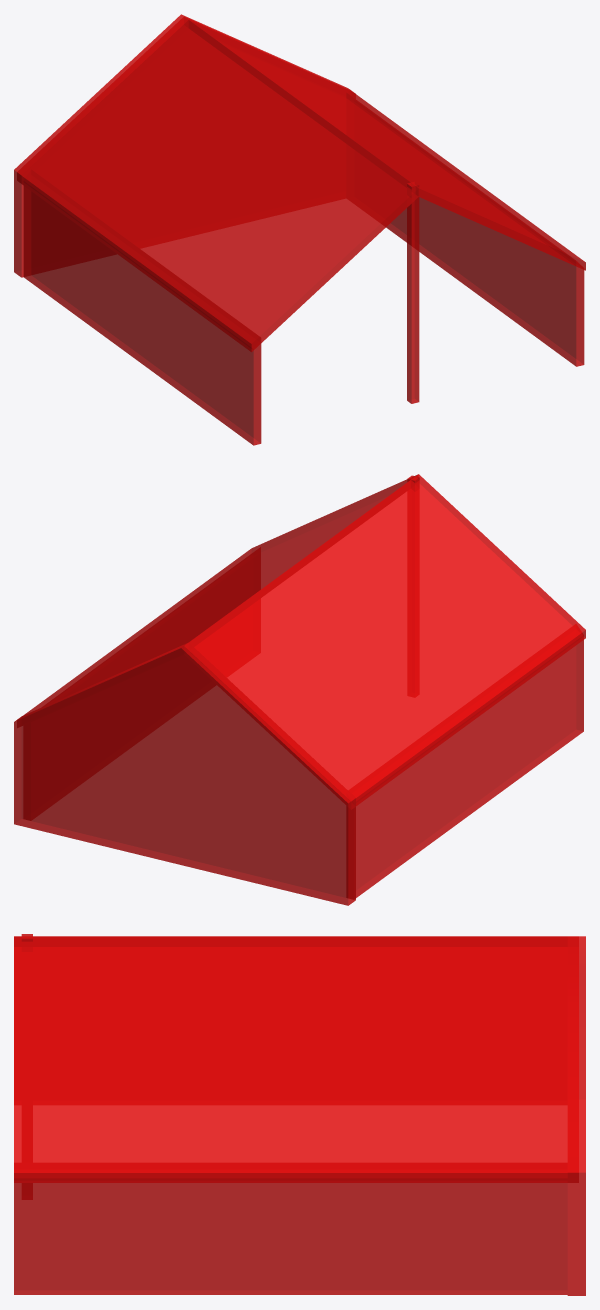
File: SM_Bld_Tent_02_Collision.fbx
The picture shows the model from 3 angles, top to bottom: view 1: azimuth 30°, elevation 25°; view 2: azimuth 150°, elevation 25°; view 3: azimuth 270°, elevation 25°; orthographic projection. The views are drawn at different scales.
Visible parts, largest first — view 1: SM_Bld_Tent_02_Collision; view 2: SM_Bld_Tent_02_Collision; view 3: SM_Bld_Tent_02_Collision.
Boxes of the visible parts, x1,y1,x2,y2 form: SM_Bld_Tent_02_Collision: (14, 14, 585, 445); SM_Bld_Tent_02_Collision: (14, 474, 585, 905); SM_Bld_Tent_02_Collision: (14, 934, 585, 1295).
Bounding box in the file's own units: 613 × 380 × 755.
